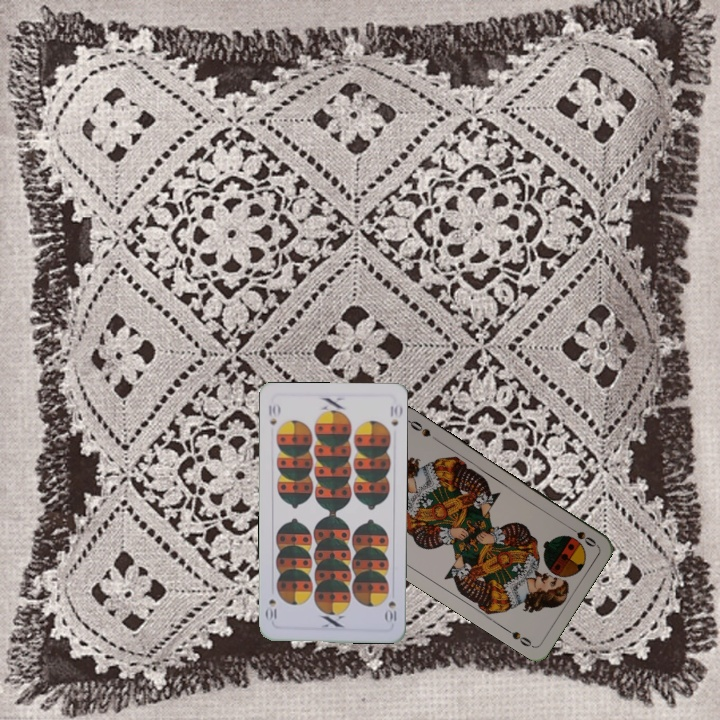S10: (382, 597, 399, 625), (265, 400, 282, 428)
SO: (563, 521, 599, 550)
